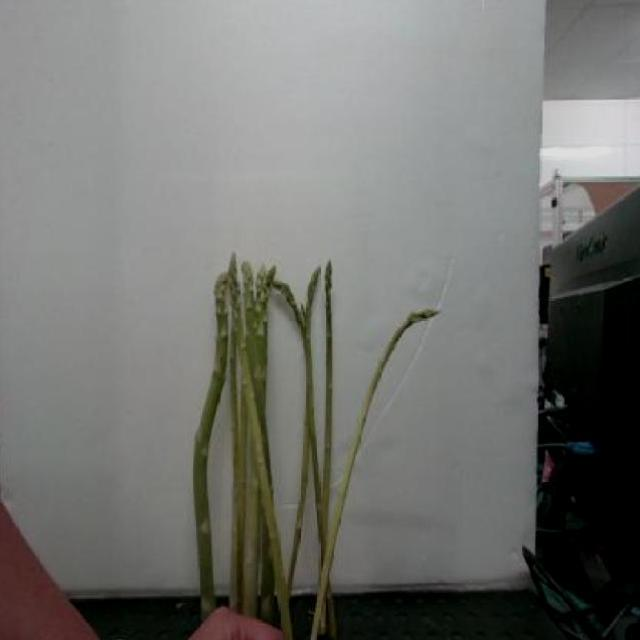aspargus: (315, 310, 439, 638), (193, 257, 236, 619)
